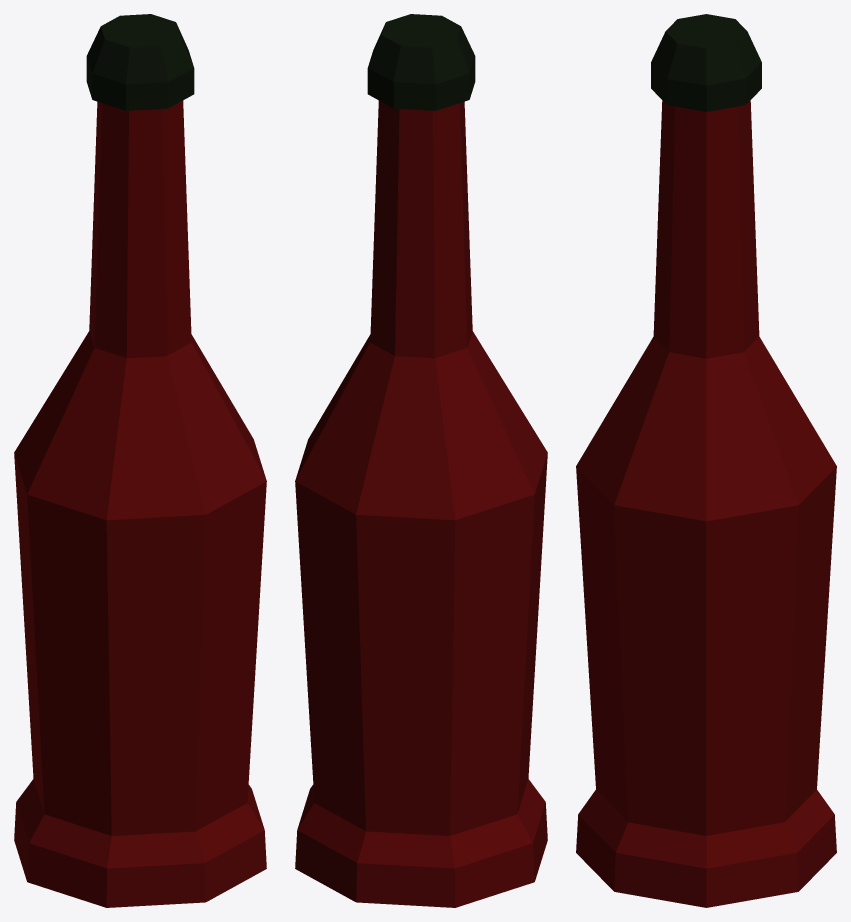
File: GlassBottle_04.fbx
3 views of the same model, side by side, from view 1: azimuth 30°, elevation 25°; view 2: azimuth 150°, elevation 25°; view 3: azimuth 270°, elevation 25° (orthographic).
Visible parts, largest first — view 1: GlassBottle_04; view 2: GlassBottle_04; view 3: GlassBottle_04.
Boxes of the visible parts, x1,y1,x2,y2 form: GlassBottle_04: (14,14,266,907); GlassBottle_04: (295,14,547,907); GlassBottle_04: (576,14,836,907).
Bounding box in the file's own units: 16.97 × 58.96 × 16.97.
